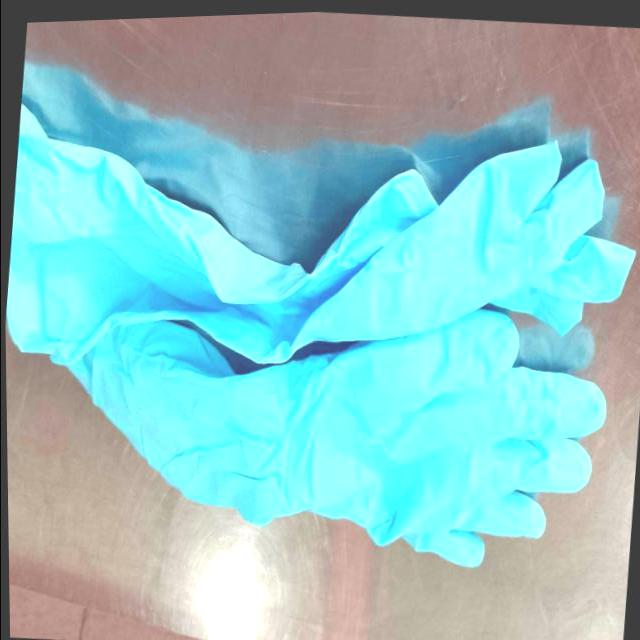General: (7, 90, 637, 569)
Infectious: (72, 307, 609, 568), (284, 138, 637, 360)
